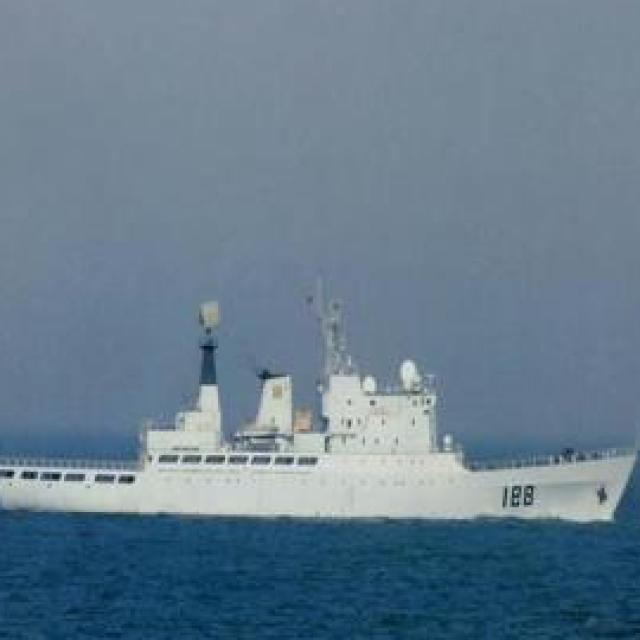navalvessels: (0, 287, 640, 521)
